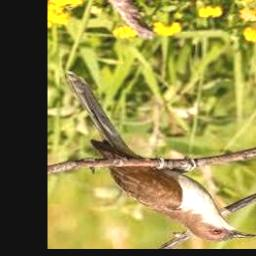Cuckoo: (64, 72, 256, 241)
